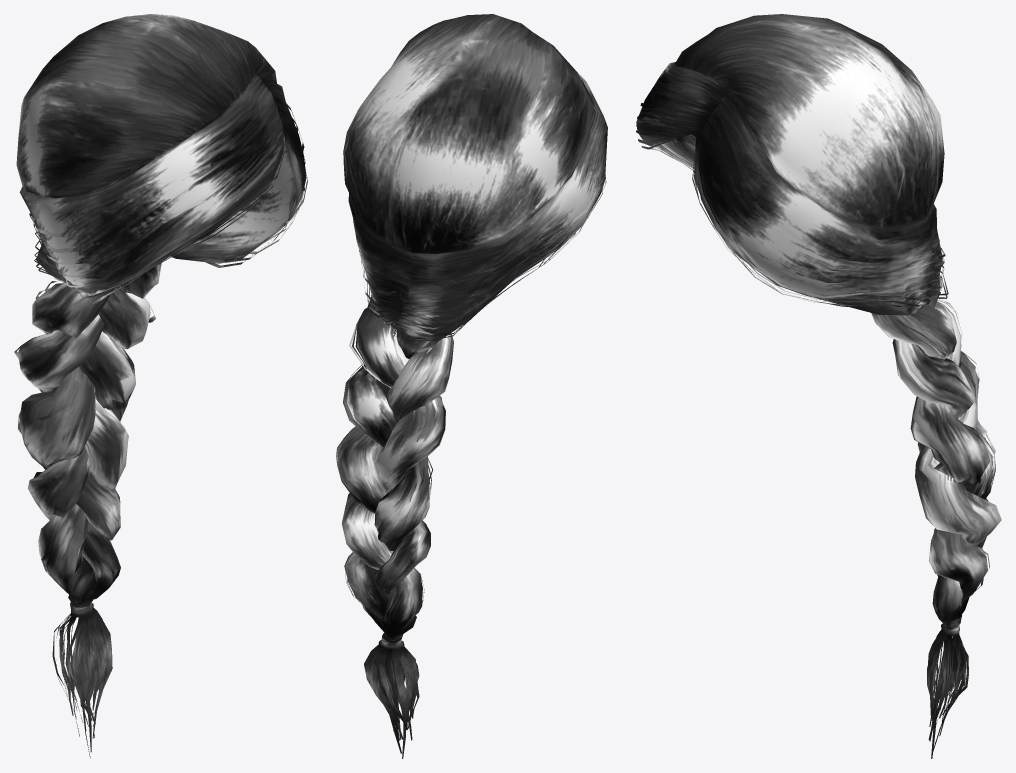
File: hair_braid01.gltf
3 renders of one model, left to right at view 1: azimuth 30°, elevation 25°; view 2: azimuth 150°, elevation 25°; view 3: azimuth 270°, elevation 25°, orthographic. The views are drawn at different scales.
Visible parts, largest first — view 1: hair_braid01; view 2: hair_braid01; view 3: hair_braid01.
Part boxes in pixels (bbox=[...]): hair_braid01: bbox=[14, 14, 307, 758]; hair_braid01: bbox=[336, 14, 607, 758]; hair_braid01: bbox=[636, 14, 1001, 758].
Bounding box in the file's own units: 0.1911 × 0.6072 × 0.2741.
1 material, 1 textured.
